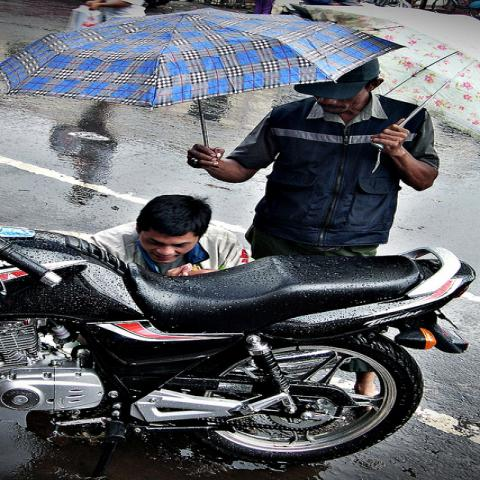motorcycle: (1, 224, 478, 474)
